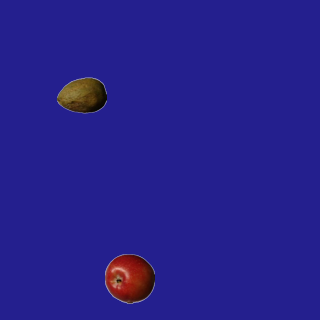Apple Braeburn: (104, 253, 154, 303)
Papaya: (56, 70, 106, 120)
